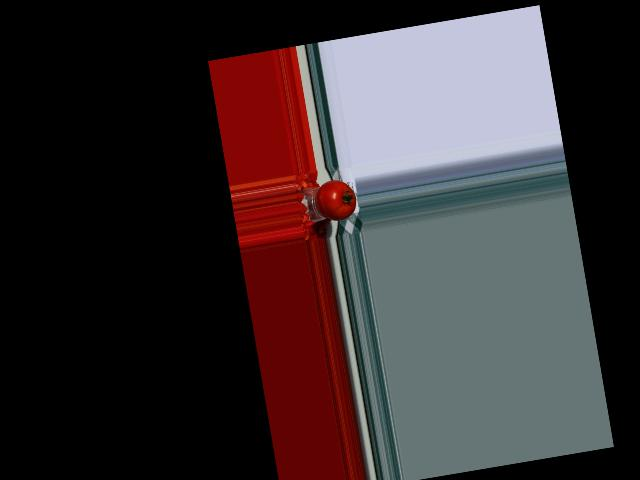tomato: (313, 176, 359, 223)
